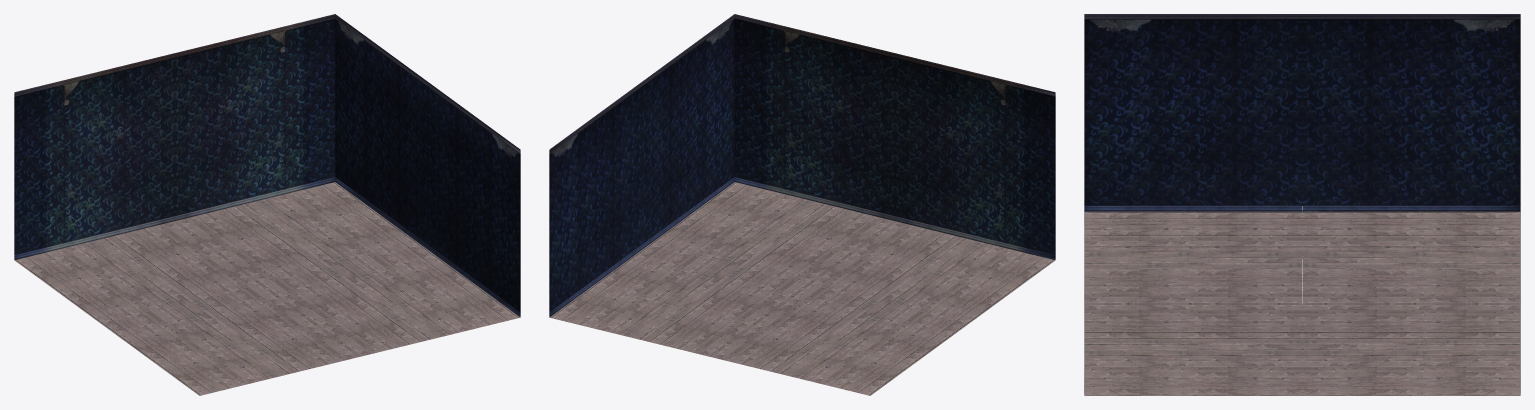
The model's file is cosmos_room.glb.
The picture shows the model from 3 angles, left to right: view 1: azimuth 30°, elevation 25°; view 2: azimuth 150°, elevation 25°; view 3: azimuth 270°, elevation 25°; orthographic projection. The views are drawn at different scales.
Visible parts, largest first — view 1: Mesh_0.003; view 2: Mesh_0.003; view 3: Mesh_0.003.
Boxes of the visible parts, x1,y1,x2,y2 form: Mesh_0.003: (14,14,520,395); Mesh_0.003: (549,14,1055,395); Mesh_0.003: (1084,14,1520,395).
Size of the model in its own units: 271 by 135 by 271.
3 materials, 3 textured.
